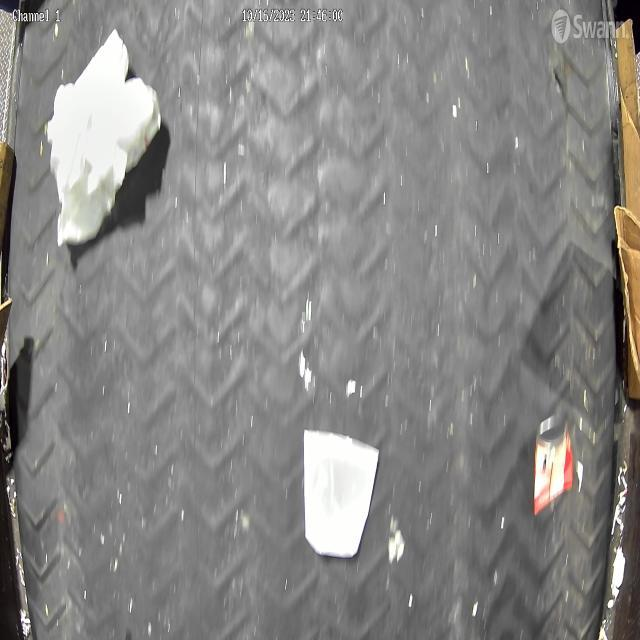can: (532, 412, 574, 518)
